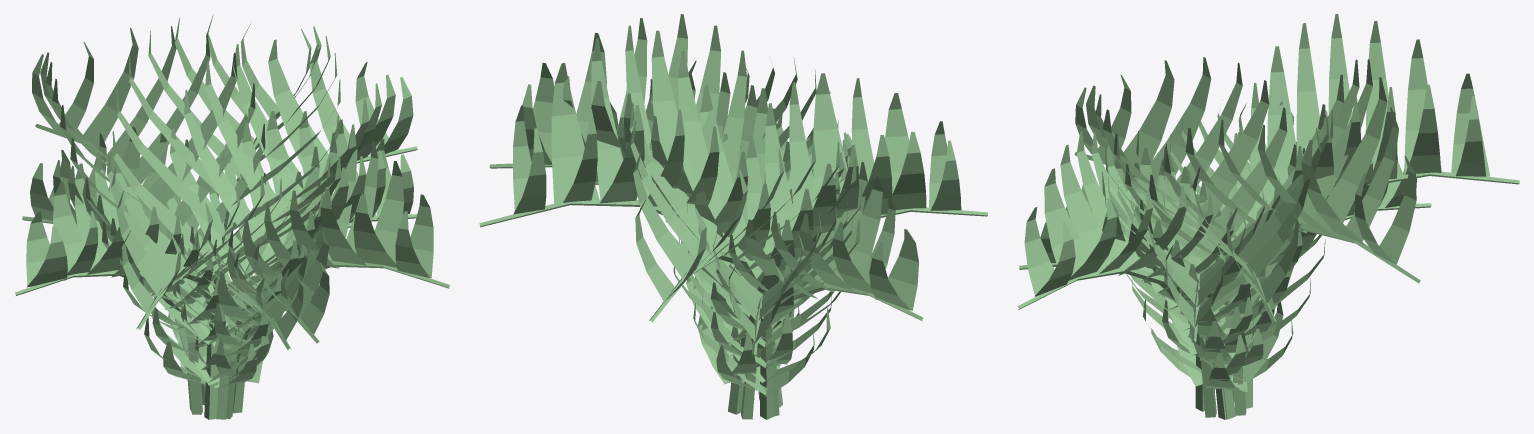
The model's file is temperate-forest-ecology-male-fern-clump-81113304__3845.glb.
The picture shows the model from 3 angles, left to right: view 1: azimuth 30°, elevation 25°; view 2: azimuth 150°, elevation 25°; view 3: azimuth 270°, elevation 25°; orthographic projection. The views are drawn at different scales.
Visible parts, largest first — view 1: male-fern-clump; view 2: male-fern-clump; view 3: male-fern-clump.
Part boxes in pixels (x1,y1,x2,y2): male-fern-clump: [15, 14, 449, 419]; male-fern-clump: [479, 14, 987, 419]; male-fern-clump: [1017, 14, 1519, 419].
Size of the model in its own units: 0.9478 by 0.7384 by 0.9615.
